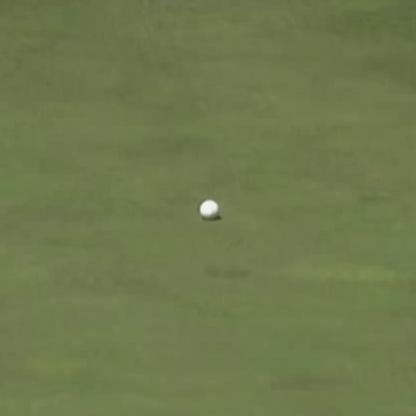golfball: (196, 196, 220, 220)
